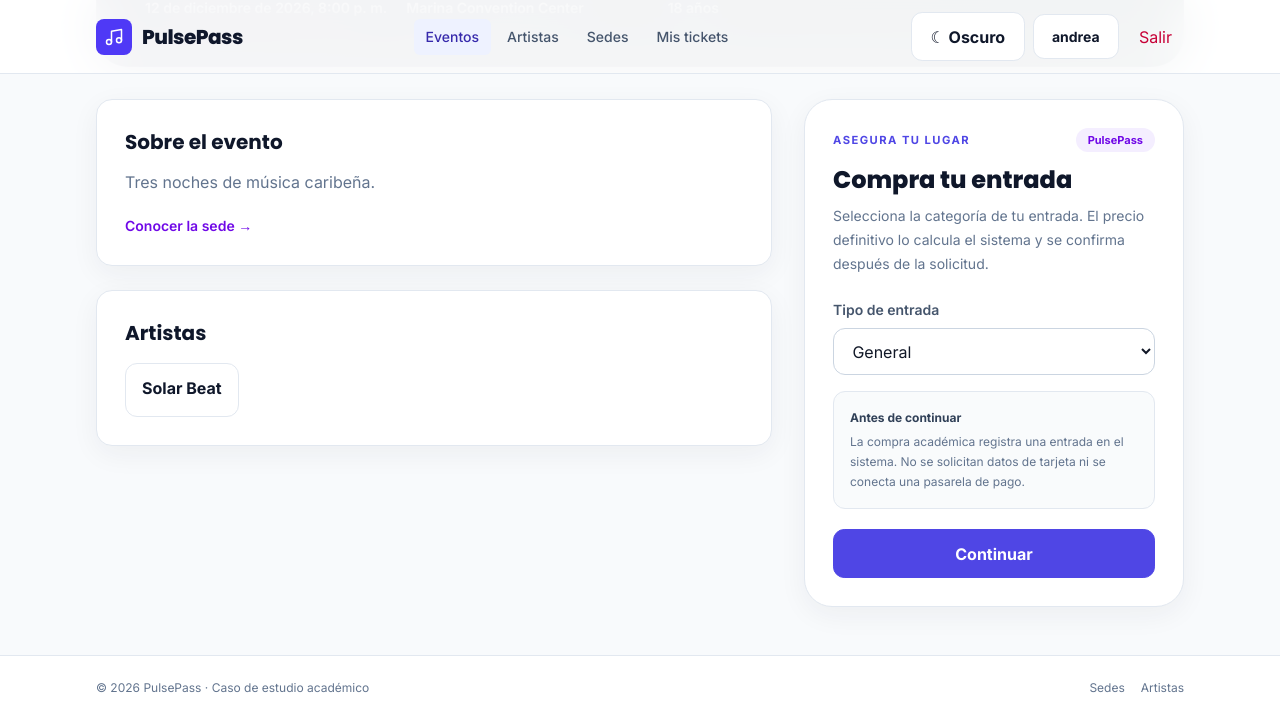
Scenario: compra de tickets › un 409 de regla de negocio se muestra dentro del modal y no navega
The image size is (1280, 720).
(page scrolled)
Click the button "Continuar". click: [994, 554]
box: [833,529,1155,578]
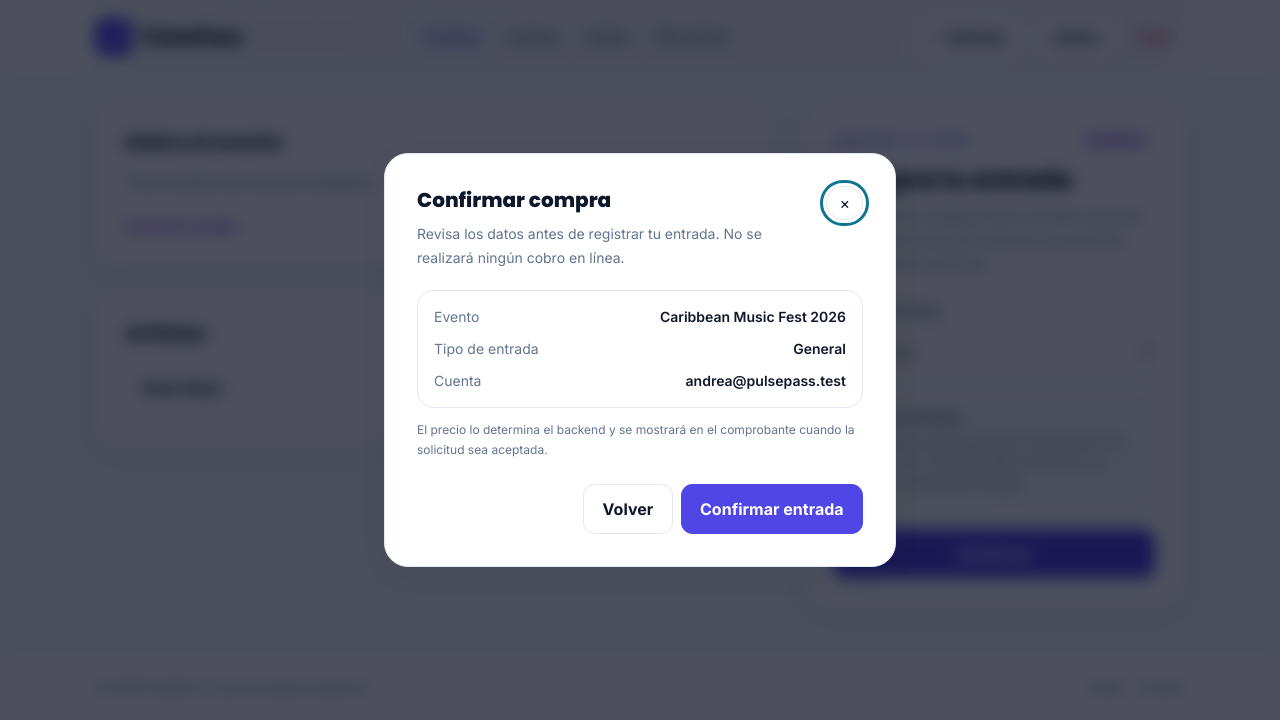
Click the button "Confirmar entrada". click: [772, 509]
box: [681,484,863,534]
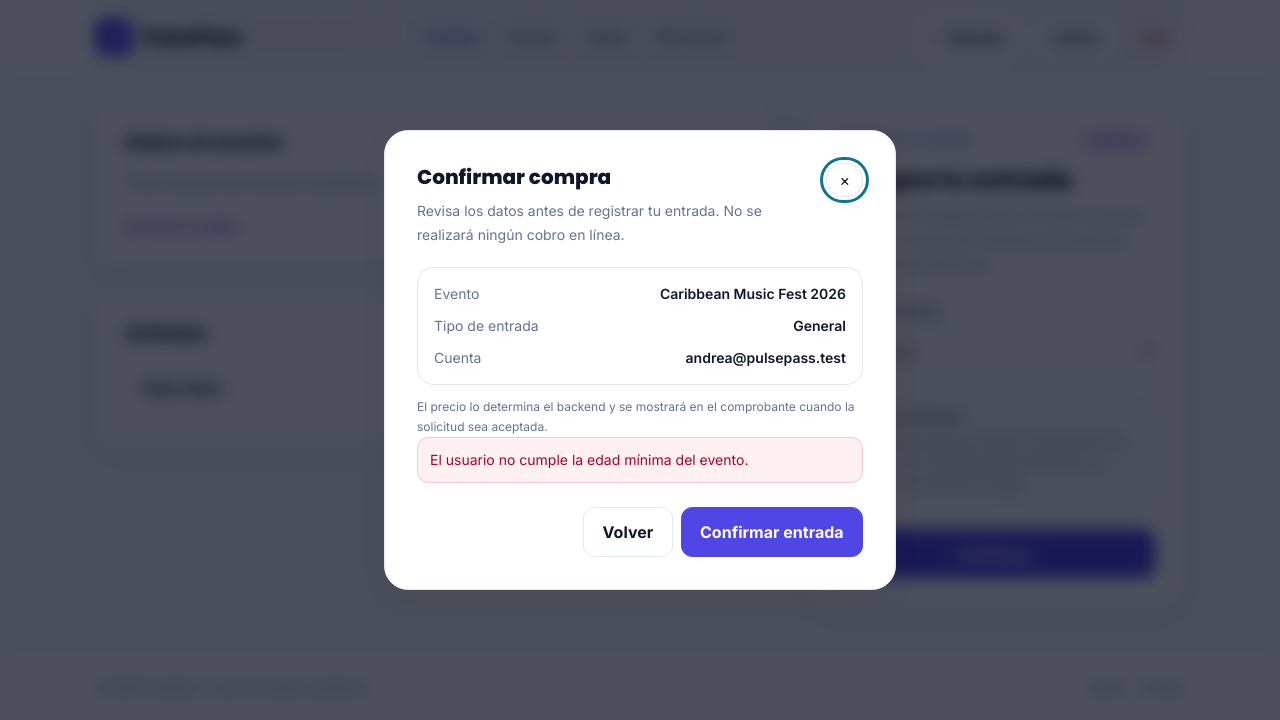
Now the dialog "Confirmar compra" is shown, box [384,130,896,590]
Now the text "El usuario no cumple la edad mínima del evento." is shown, box [417,438,863,484]
